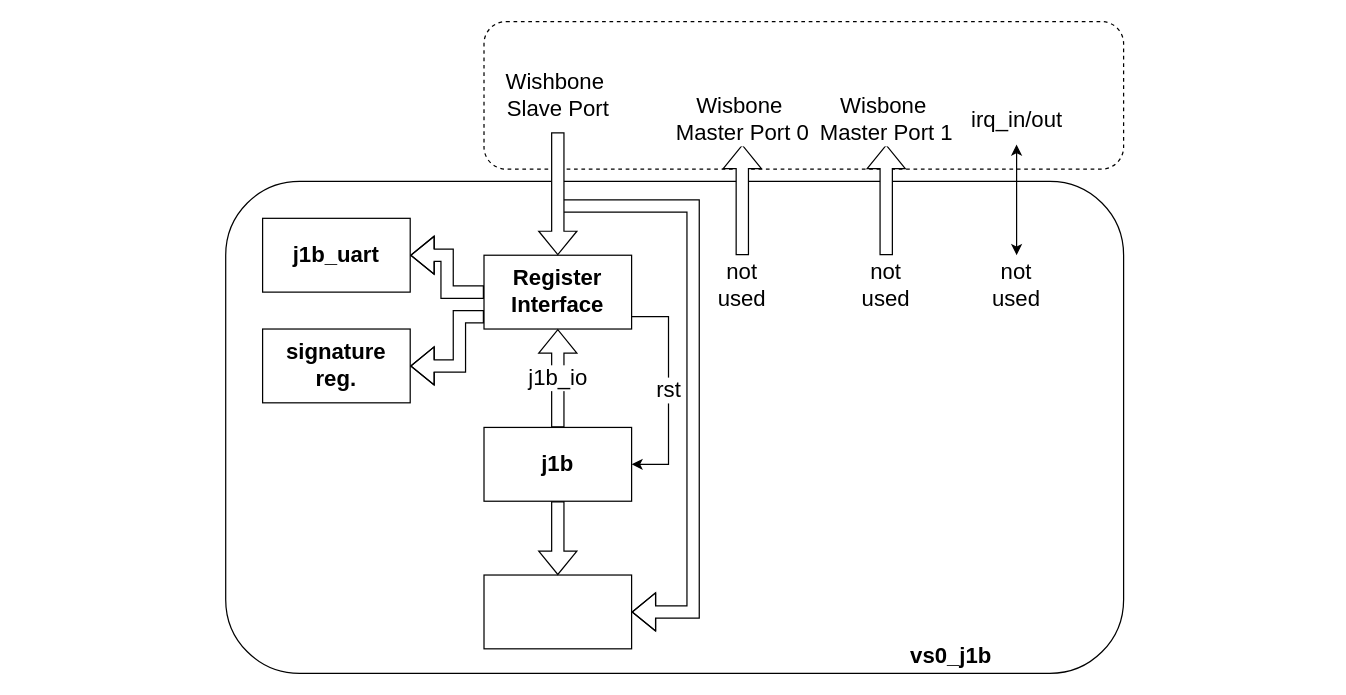
The diagram is 1346 pixels wide and 695 high, and some of its shapes have lost their labels. The centre of each missing label's shape, as x and y in pixels:
ram32k: (557,611)
Virtual Socket 0 Interface: (803,94)
